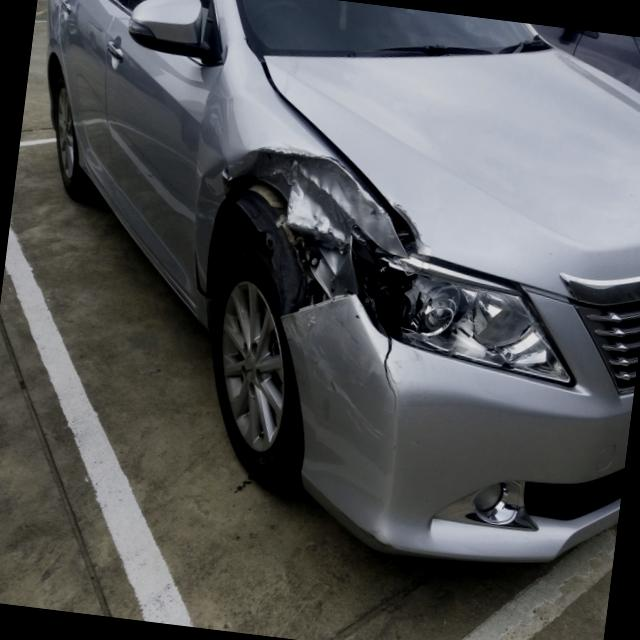Cabossage: (209, 126, 410, 334)
Dechirure: (219, 138, 341, 304), (374, 319, 407, 410)
Phare abime: (335, 225, 447, 356)
